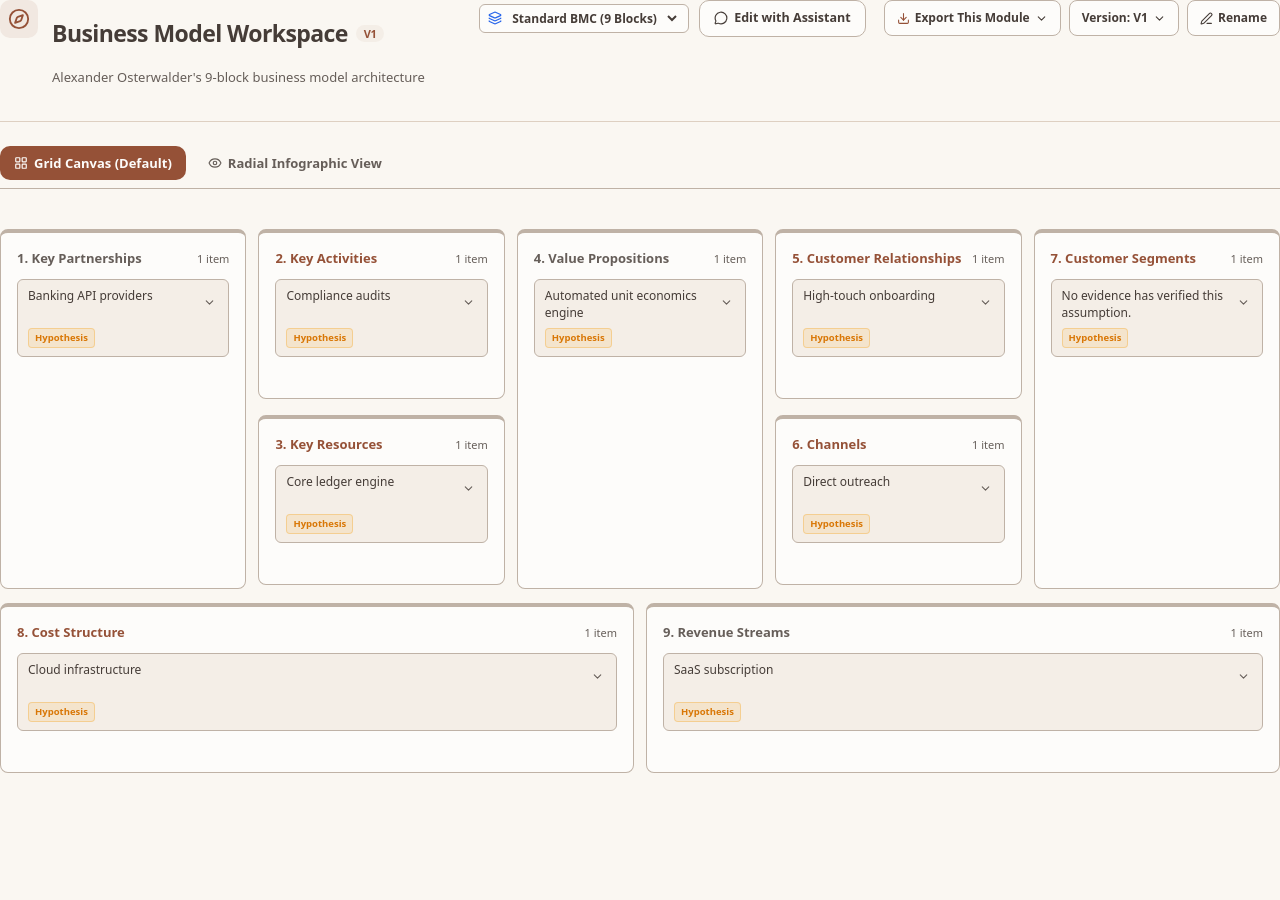
Test: Truthful Canvas Actions and Epistemic Badges › handles API failure gracefully without showing false success
Click the button titled "Actions" next to "Automated unit economics engine" at [727, 305], box [718, 288, 735, 322]
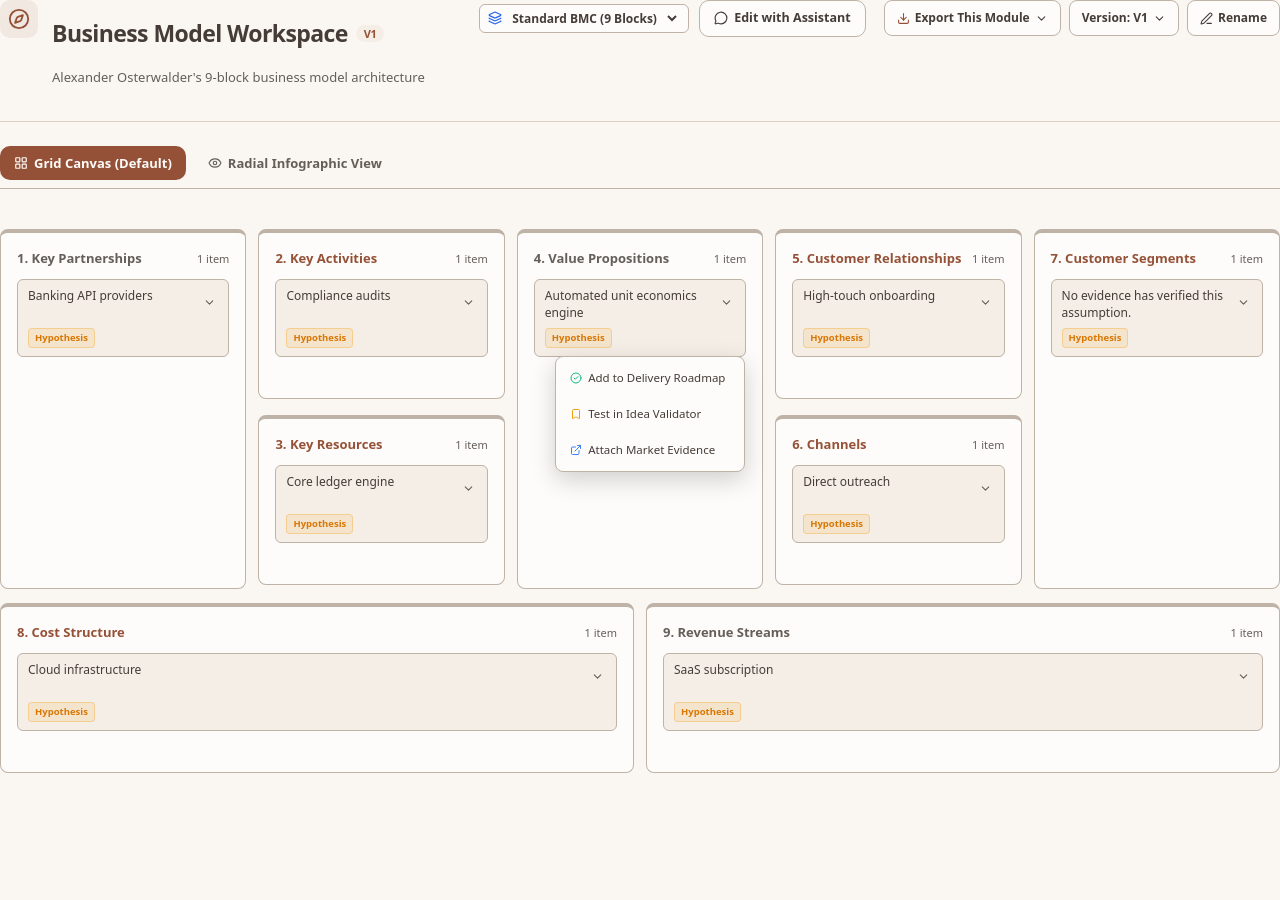
Click the button "Add to Delivery Roadmap" at [650, 378], box [560, 361, 740, 395]
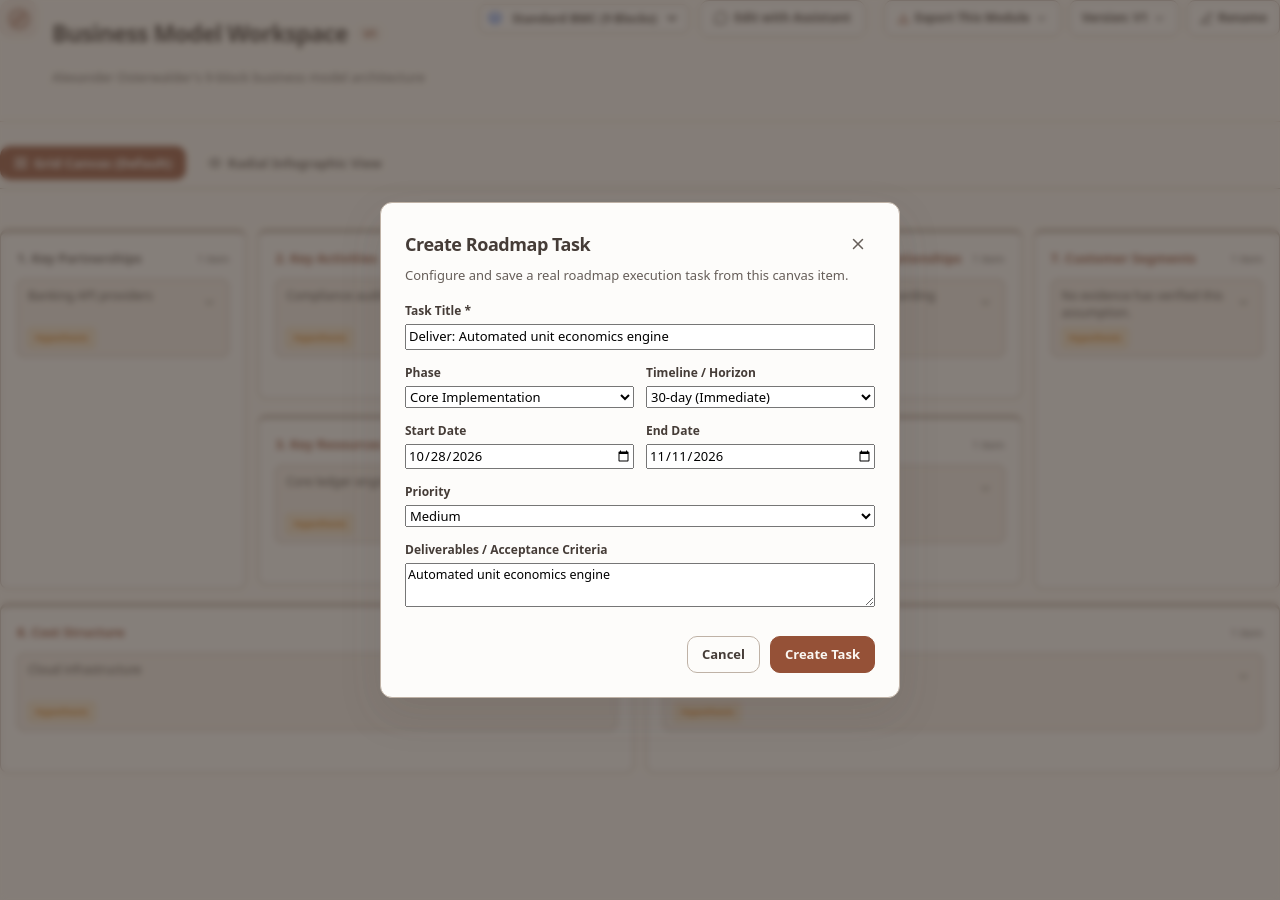
Click the button "Create Task" at [822, 654], box [770, 636, 875, 673]
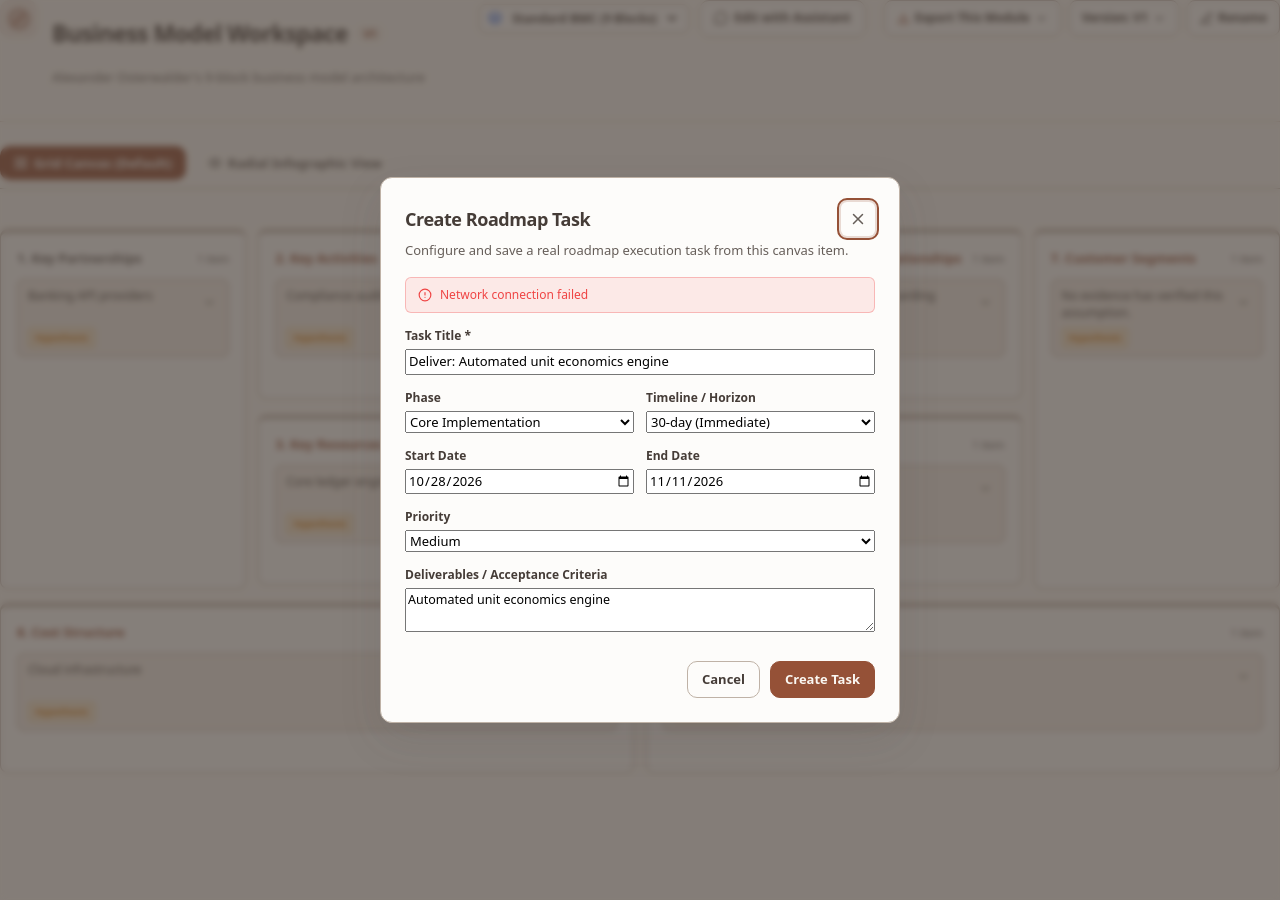
Check: the heading "Create Roadmap Task" is shown, box [405, 208, 590, 230]
Check: the text "Network connection failed" is shown, box [440, 286, 588, 304]
